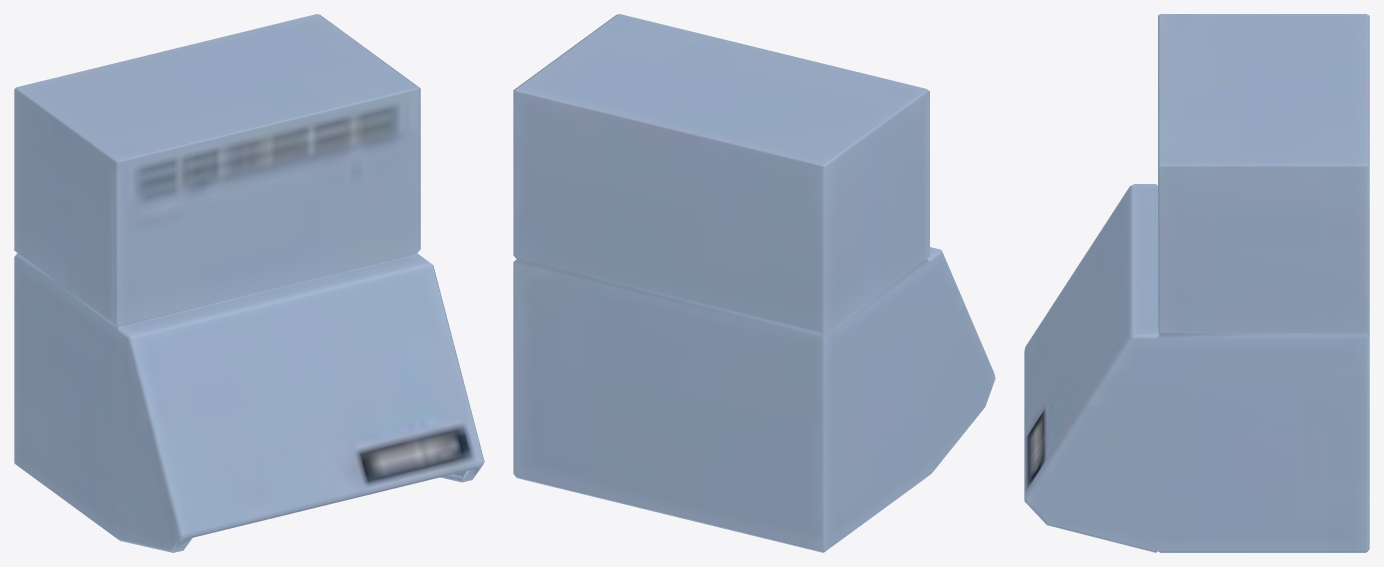
3 renders of one model, left to right at view 1: azimuth 30°, elevation 25°; view 2: azimuth 150°, elevation 25°; view 3: azimuth 270°, elevation 25°, orthographic. The views are drawn at different scales.
Bounding box in the file's own units: 9 × 10.66 × 8.57.
Materials: 2 (1 with a texture image).
